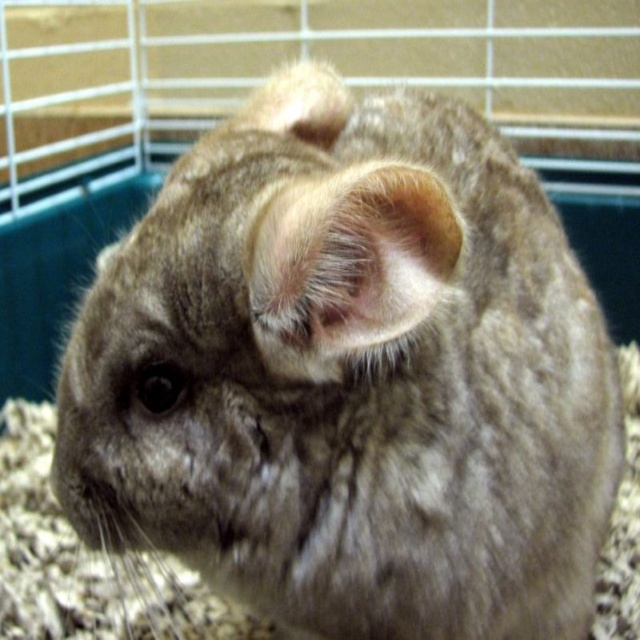Rabbit: (34, 51, 629, 639)
